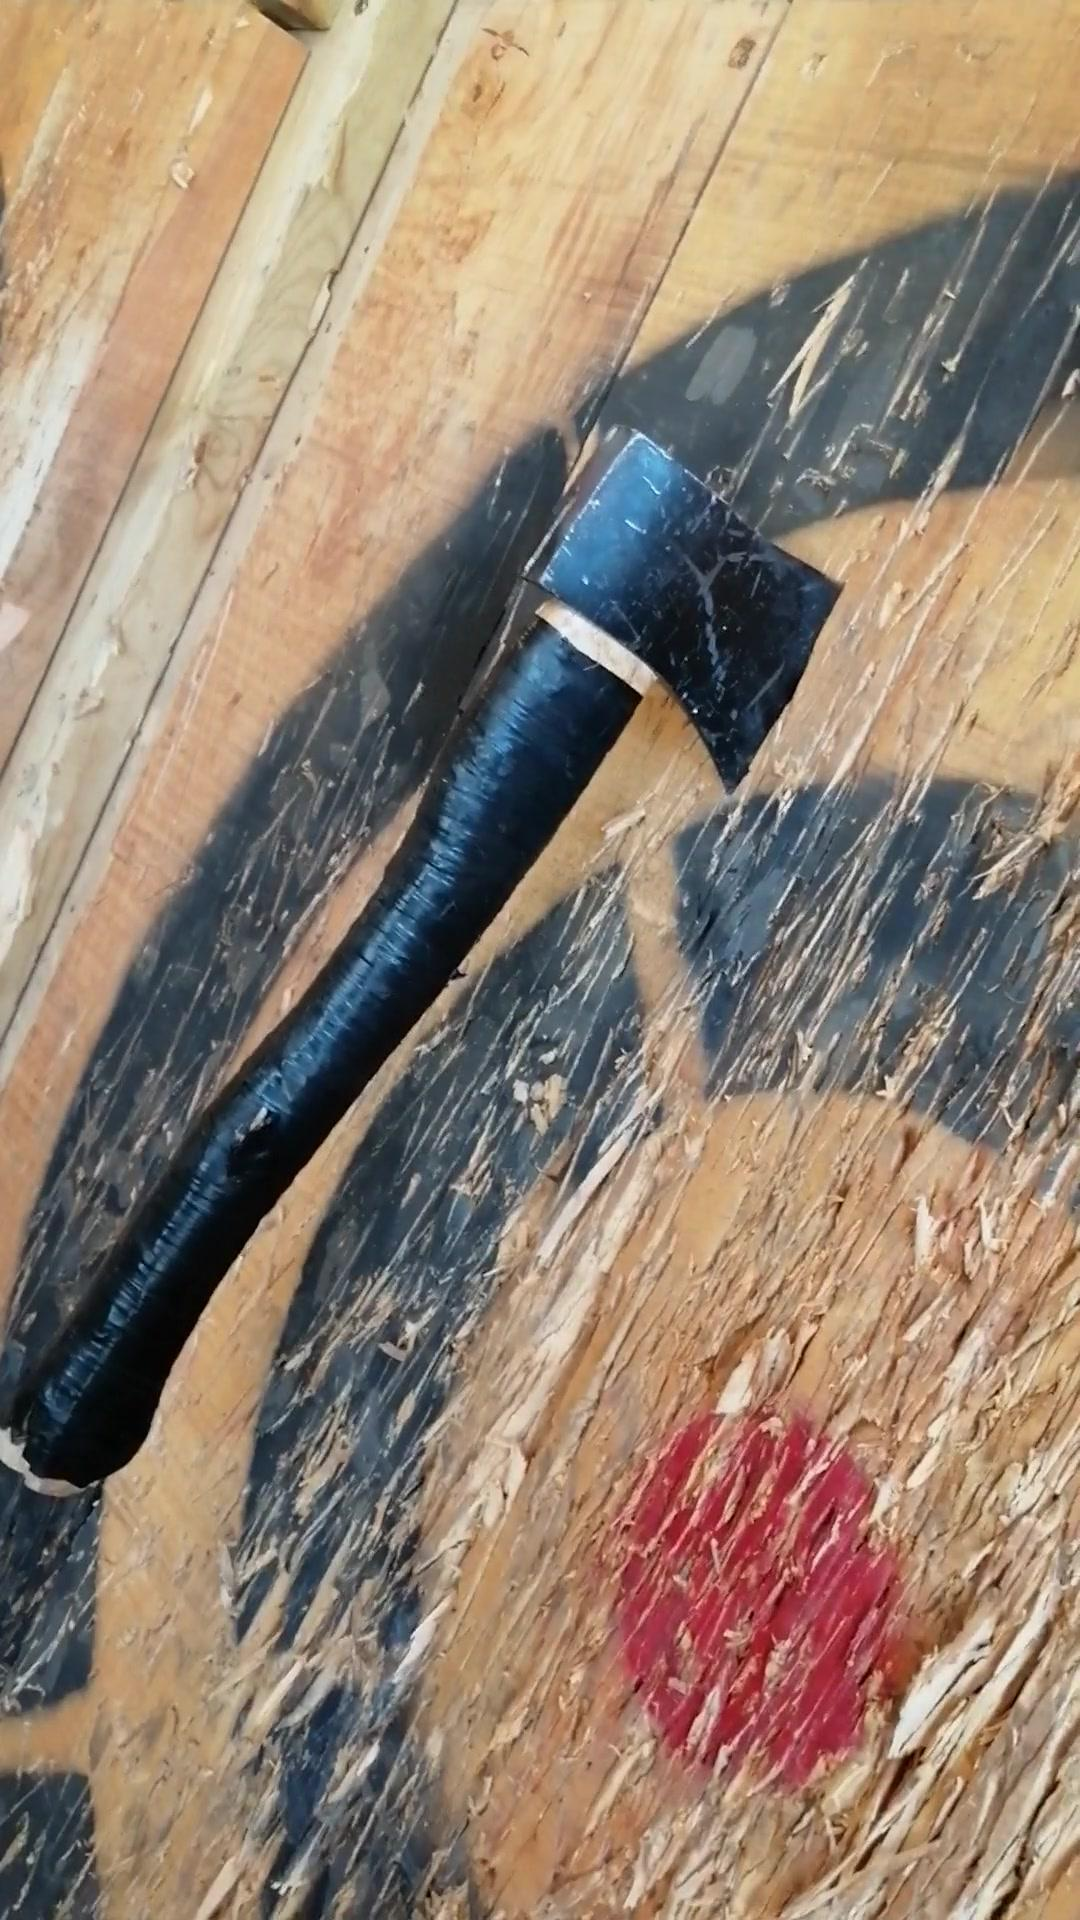Hand Axe: (526, 430, 845, 793)
